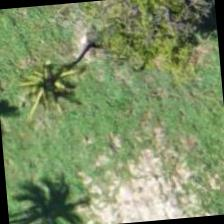Kelapa_Sawit: (2, 29, 100, 127)
